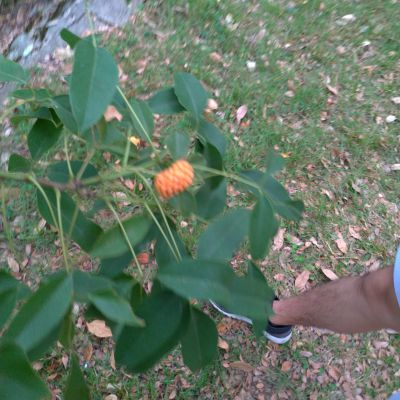eggs: (150, 157, 201, 200)
